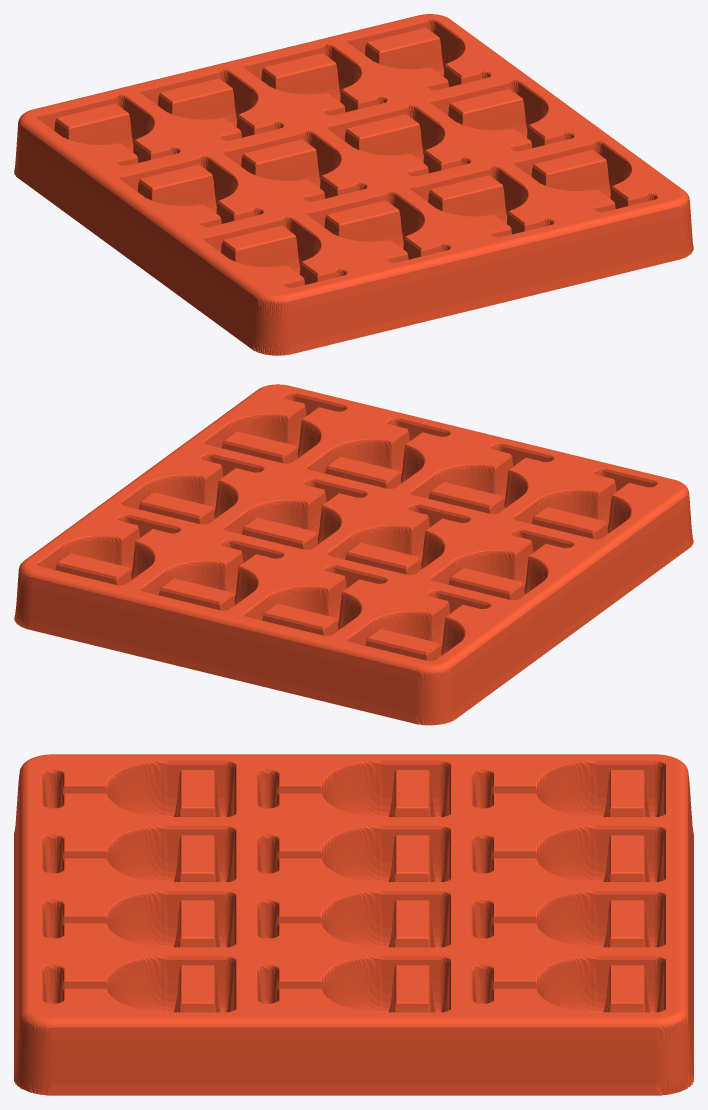
File: mold.glb
3 renders of one model, top to bottom at view 1: azimuth 30°, elevation 25°; view 2: azimuth 150°, elevation 25°; view 3: azimuth 270°, elevation 25°, orthographic. The views are drawn at different scales.
Parts seen in each view (by area): view 1: geometry_0; view 2: geometry_0; view 3: geometry_0.
Part boxes in pixels (<box>): geometry_0: <box>14,14,693,355</box>; geometry_0: <box>14,384,693,725</box>; geometry_0: <box>14,754,693,1095</box>.
Size of the model in its own units: 0.1531 by 0.0185 by 0.1598.
